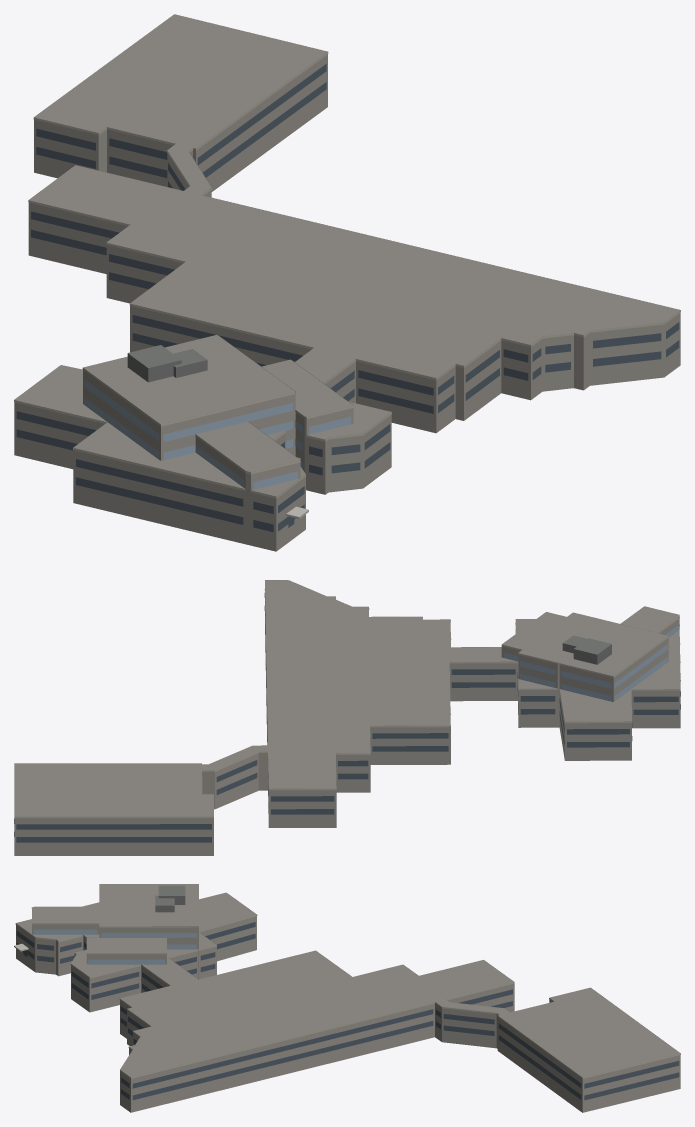
File: arkansas-department-of-health.glb
3 views of the same model, one above another, from view 1: azimuth 30°, elevation 25°; view 2: azimuth 150°, elevation 25°; view 3: azimuth 270°, elevation 25° (orthographic). The views are drawn at different scales.
Visible parts, largest first — view 1: arkansas_department_of_health; view 2: arkansas_department_of_health; view 3: arkansas_department_of_health.
Boxes of the visible parts, x1,y1,x2,y2 form: arkansas_department_of_health: (14, 14, 680, 551); arkansas_department_of_health: (14, 580, 680, 855); arkansas_department_of_health: (14, 884, 680, 1112).
Bounding box in the file's own units: 137 × 23.27 × 208.
